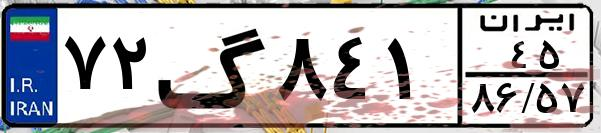1: (385, 28, 445, 110)
2: (110, 28, 156, 98)
4: (330, 28, 385, 110), (508, 27, 537, 80)
5: (537, 27, 568, 80), (535, 70, 560, 125)
6: (495, 70, 520, 125)
7: (57, 26, 110, 100), (560, 70, 590, 125)
8: (270, 28, 330, 110), (470, 70, 495, 125)
گ: (156, 12, 270, 120)
